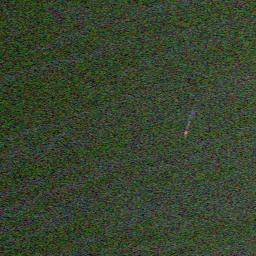Ship: (181, 124, 190, 139)
